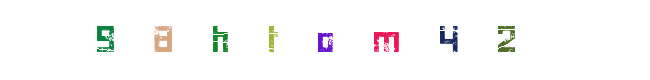2: (465, 0, 545, 80)
4: (408, 0, 488, 80)
8: (174, 0, 254, 80)
9: (115, 0, 195, 80)
H: (280, 0, 360, 80)
M: (346, 0, 426, 80)
O: (286, 0, 366, 80)
T: (284, 0, 364, 80)
